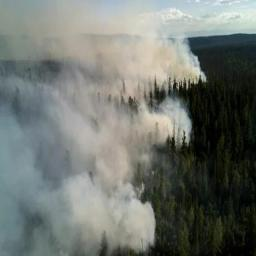Heavy smoke: (0, 0, 213, 256)
